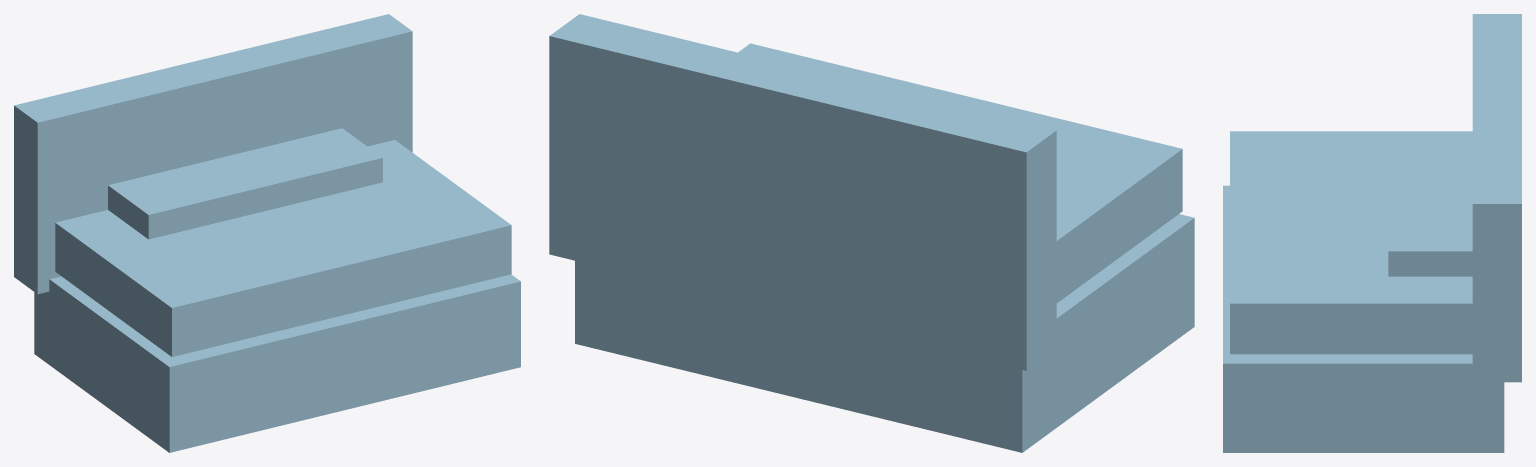
The model's file is bed.glb.
3 renders of one model, left to right at view 1: azimuth 30°, elevation 25°; view 2: azimuth 150°, elevation 25°; view 3: azimuth 270°, elevation 25°, orthographic. The views are drawn at different scales.
Visible parts, largest first — view 1: bed; view 2: bed; view 3: bed.
Part boxes in pixels (x1,y1,x2,y2): bed: (14,14,520,452); bed: (549,14,1194,452); bed: (1223,14,1521,452).
Size of the model in its own units: 0.64 by 0.4 by 0.425.
